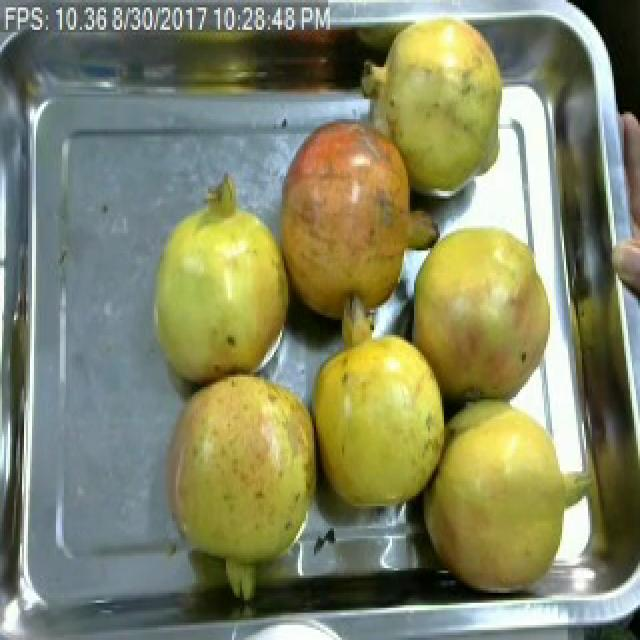fruit: (154, 357, 332, 610), (266, 102, 444, 345), (412, 377, 592, 608), (140, 164, 306, 402), (344, 0, 528, 213), (296, 312, 466, 528), (396, 206, 564, 417)
